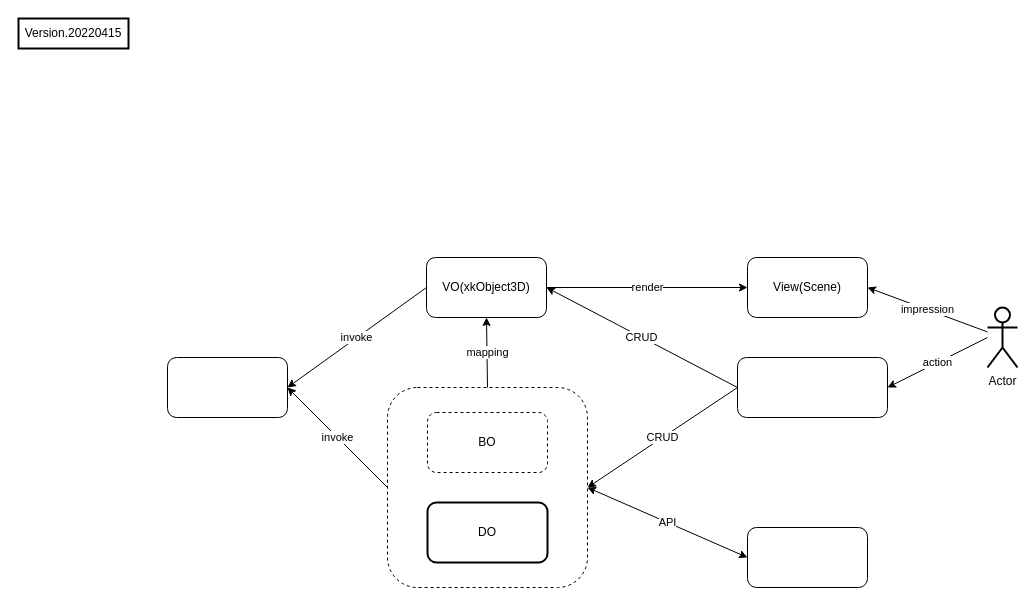
The diagram is 1035 pixels wide and 605 high, and some of its shapes have lost their labels. Each missing label, with the centre of its shape:
"Backend" belongs at pixel 807 557.
"Controller (in Components/XKEditor)" belongs at pixel 812 387.
"Utils function" belongs at pixel 227 387.
